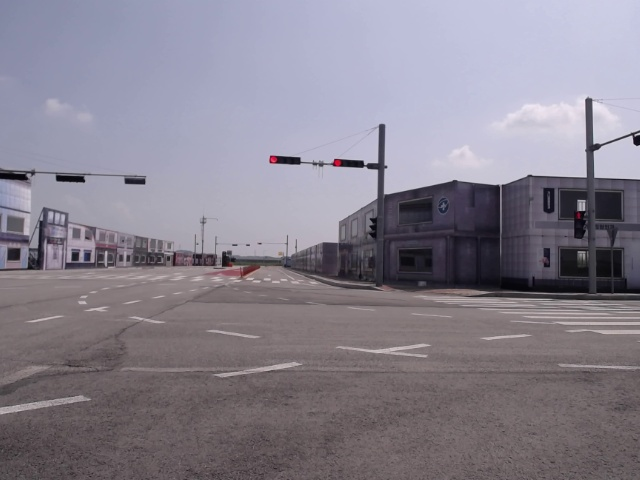red_4: (333, 158, 365, 168), (269, 156, 301, 165)
